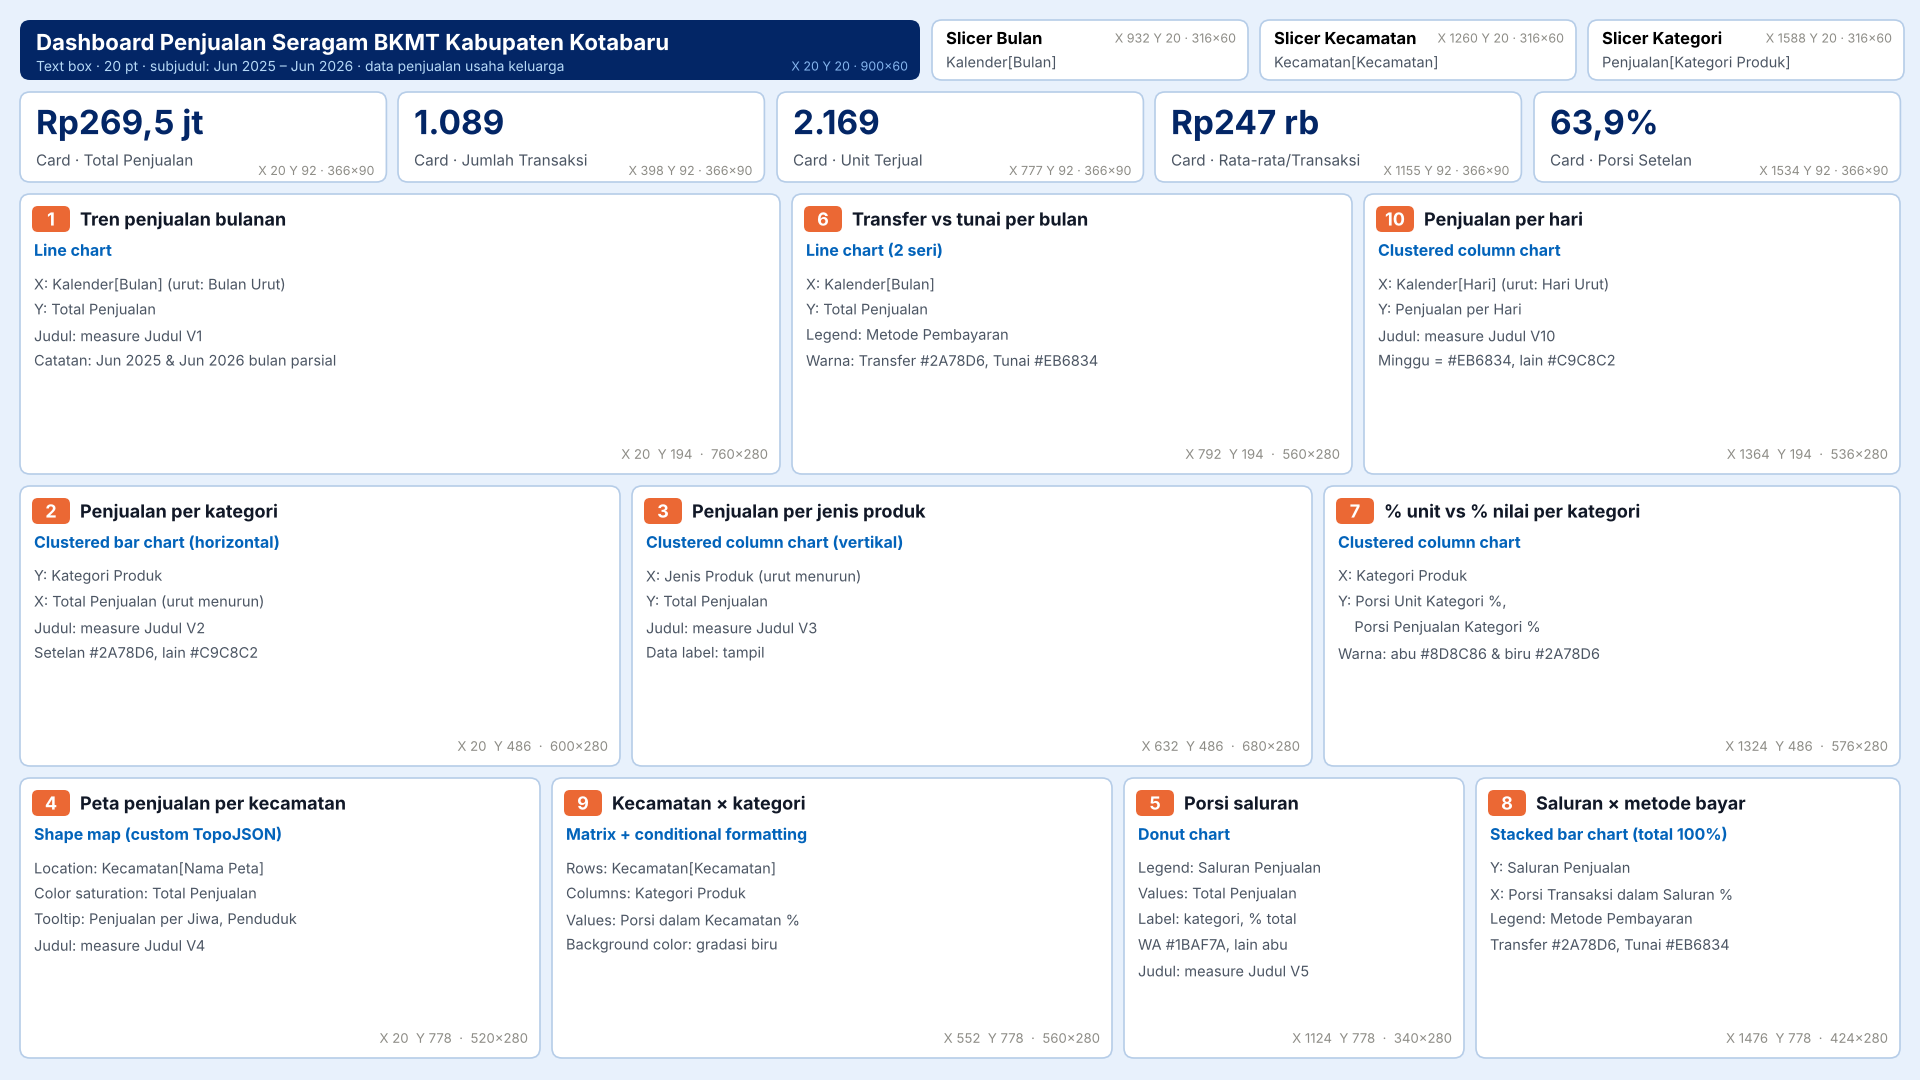

The page's visual inventory and layout, read from the dashboard file:
{"tool":"powerbi","page":{"name":"Halaman 1","canvas":[1920,1080],"ordinal":0},"visuals":[{"type":"pythonVisual","fields":{"Values":["Penjualan.Kategori Produk","Penjualan.Total Penjualan"]},"box":[54.3,485.7,562.9,280],"z":0},{"type":"pythonVisual","fields":{"Values":["Kalender.Bulan","Kalender.Bulan Parsial","Penjualan.Total Penjualan"]},"box":[54.3,194.3,720,280],"z":1000},{"type":"pythonVisual","fields":{"Values":["Penjualan.Jenis Produk","Penjualan.Total Penjualan"]},"box":[632,486,680,280],"z":2000},{"type":"pythonVisual","fields":{"Values":["Penjualan.Kecamatan","Kecamatan.Nama Peta","Penjualan.Total Penjualan","Penjualan.Penduduk"]},"box":[54.3,778.6,480,280],"z":3000},{"type":"pythonVisual","fields":{"Values":["Penjualan.Saluran Penjualan","Penjualan.Total Penjualan"]},"box":[1124.3,778.6,341.4,280],"z":4000},{"type":"pythonVisual","fields":{"Values":["Kalender.Bulan","Kalender.Bulan Parsial","Penjualan.Metode Pembayaran","Penjualan.Total Penjualan"]},"box":[791.4,194.3,560,280],"z":5000},{"type":"pythonVisual","fields":{"Values":["Penjualan.Kategori Produk","Penjualan.Unit Terjual","Penjualan.Total Penjualan"]},"box":[1324.3,485.7,576,280],"z":6000},{"type":"pythonVisual","fields":{"Values":["Penjualan.Saluran Penjualan","Penjualan.Metode Pembayaran","Penjualan.Jumlah Transaksi"]},"box":[1476,778,424,280],"z":7000},{"type":"pythonVisual","fields":{"Values":["Kecamatan.Kecamatan","Penjualan.Kategori Produk","Penjualan.Total Penjualan"]},"box":[552,778,560,280],"z":8000},{"type":"pythonVisual","fields":{"Values":["Kalender.Hari","Penjualan.Penjualan per Hari"]},"box":[1364,194,536,280],"z":9000},{"type":"cardVisual","fields":{"Data":["Penjualan.Total Penjualan"]},"box":[54.3,85.7,366,90],"z":10000},{"type":"cardVisual","fields":{"Data":["Kalender.Jumlah Transaksi Teks"]},"box":[425.7,85.7,366,90],"z":11000},{"type":"cardVisual","fields":{"Data":["Kalender.Rata-rata per Transaksi"]},"box":[1181.4,85.7,366,90],"z":12000},{"type":"cardVisual","fields":{"Data":["Kalender.Porsi Setelan %"]},"box":[1554.3,85.7,345.7,90],"z":13000},{"type":"cardVisual","fields":{"Data":["Kalender.Unit Terjual Teks"]},"box":[804.3,85.7,366,90],"z":14000},{"type":"textbox","box":[54.3,20,1017.1,60],"z":15000},{"type":"slicer","fields":{"Values":["Kecamatan.Kecamatan"]},"box":[1647.1,20,252.9,60],"z":16000},{"type":"slicer","fields":{"Values":["Penjualan.Kategori Produk"]},"box":[1402.9,20,244.3,60],"z":17000},{"type":"slicer","fields":{"Values":["Kalender.Bulan"]},"box":[1158.6,20,244.3,60],"z":17001}]}

Visuals, with their boxes in screenshot pixels (x1, y1, x2, y2), scaled from the page's 1920x1080 canvas onto the 1920x1080 screenshot:
pythonVisual - Penjualan.Kategori Produk x Penjualan.Total Penjualan: {"x1": 54, "y1": 486, "x2": 617, "y2": 766}
pythonVisual - Kalender.Bulan x Kalender.Bulan Parsial: {"x1": 54, "y1": 194, "x2": 774, "y2": 474}
pythonVisual - Penjualan.Jenis Produk x Penjualan.Total Penjualan: {"x1": 632, "y1": 486, "x2": 1312, "y2": 766}
pythonVisual - Penjualan.Kecamatan x Kecamatan.Nama Peta: {"x1": 54, "y1": 779, "x2": 534, "y2": 1059}
pythonVisual - Penjualan.Saluran Penjualan x Penjualan.Total Penjualan: {"x1": 1124, "y1": 779, "x2": 1466, "y2": 1059}
pythonVisual - Kalender.Bulan x Kalender.Bulan Parsial: {"x1": 791, "y1": 194, "x2": 1351, "y2": 474}
pythonVisual - Penjualan.Kategori Produk x Penjualan.Unit Terjual: {"x1": 1324, "y1": 486, "x2": 1900, "y2": 766}
pythonVisual - Penjualan.Saluran Penjualan x Penjualan.Metode Pembayaran: {"x1": 1476, "y1": 778, "x2": 1900, "y2": 1058}
pythonVisual - Kecamatan.Kecamatan x Penjualan.Kategori Produk: {"x1": 552, "y1": 778, "x2": 1112, "y2": 1058}
pythonVisual - Kalender.Hari x Penjualan.Penjualan per Hari: {"x1": 1364, "y1": 194, "x2": 1900, "y2": 474}
cardVisual - Penjualan.Total Penjualan: {"x1": 54, "y1": 86, "x2": 420, "y2": 176}
cardVisual - Kalender.Jumlah Transaksi Teks: {"x1": 426, "y1": 86, "x2": 792, "y2": 176}
cardVisual - Kalender.Rata-rata per Transaksi: {"x1": 1181, "y1": 86, "x2": 1547, "y2": 176}
cardVisual - Kalender.Porsi Setelan %: {"x1": 1554, "y1": 86, "x2": 1900, "y2": 176}
cardVisual - Kalender.Unit Terjual Teks: {"x1": 804, "y1": 86, "x2": 1170, "y2": 176}
textbox: {"x1": 54, "y1": 20, "x2": 1071, "y2": 80}
slicer - Kecamatan.Kecamatan: {"x1": 1647, "y1": 20, "x2": 1900, "y2": 80}
slicer - Penjualan.Kategori Produk: {"x1": 1403, "y1": 20, "x2": 1647, "y2": 80}
slicer - Kalender.Bulan: {"x1": 1159, "y1": 20, "x2": 1403, "y2": 80}
